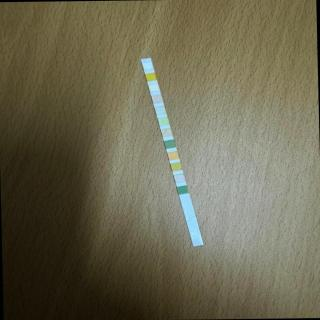mark: (176, 186, 188, 194), (145, 73, 157, 81), (168, 151, 178, 160), (152, 95, 162, 104), (176, 174, 184, 183), (165, 140, 174, 148), (172, 163, 182, 170), (159, 118, 169, 125), (162, 129, 171, 136), (150, 85, 159, 92), (156, 106, 164, 113), (144, 62, 152, 69)
